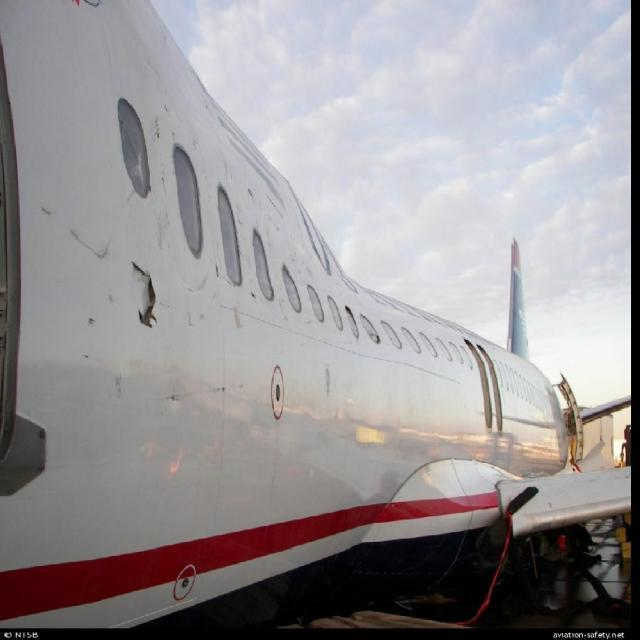crack: (132, 259, 161, 332)
